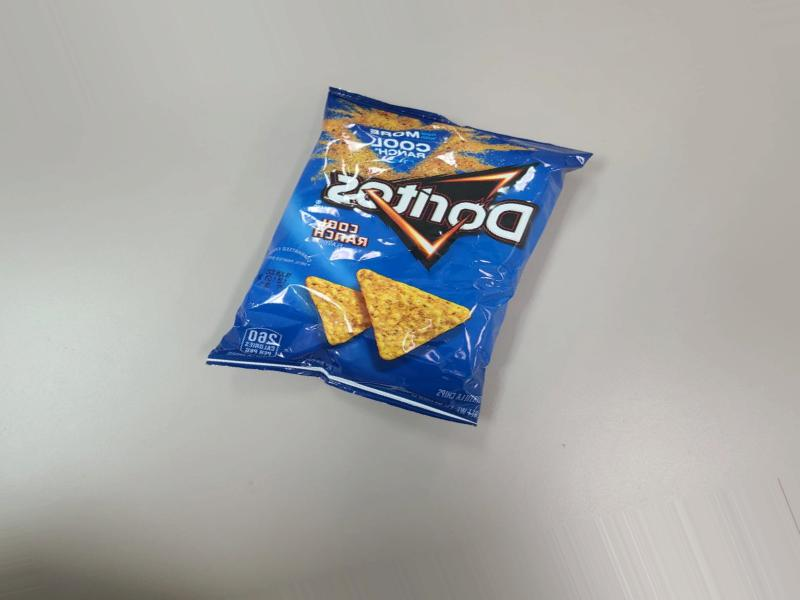doritos: (216, 89, 590, 441)
